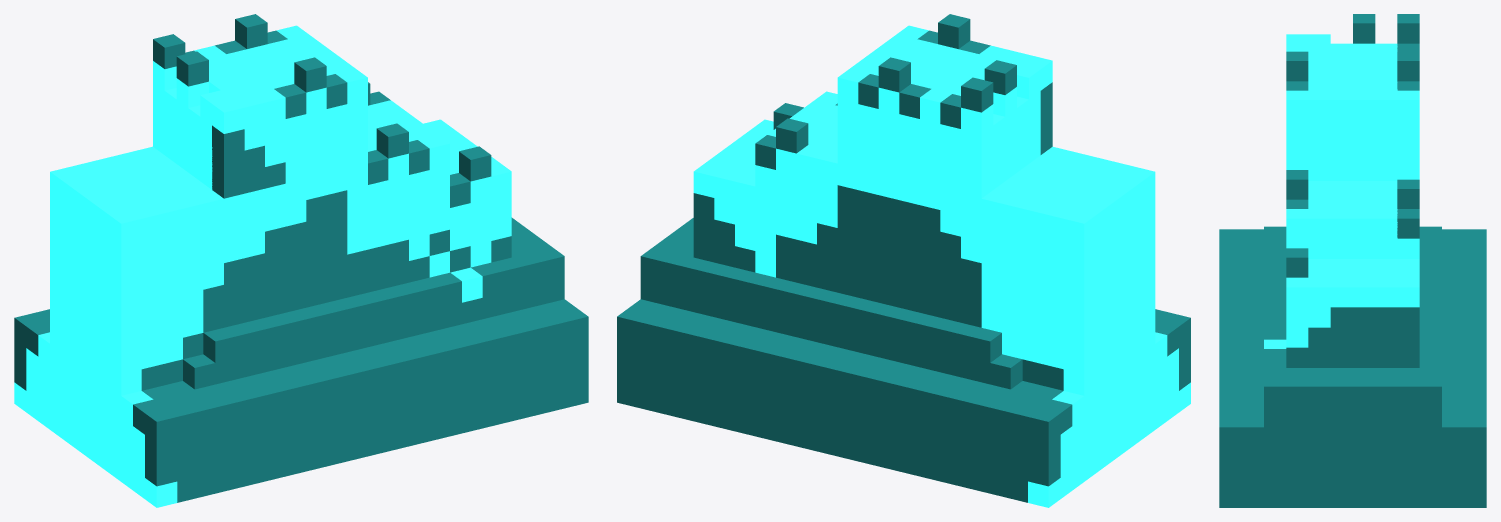
File: rat-body-joined.fbx
The picture shows the model from 3 angles, left to right: view 1: azimuth 30°, elevation 25°; view 2: azimuth 150°, elevation 25°; view 3: azimuth 270°, elevation 25°; orthographic projection. The views are drawn at different scales.
Visible parts, largest first — view 1: body; view 2: body; view 3: body.
Boxes of the visible parts, x1,y1,x2,y2 form: body: (14, 14, 588, 507); body: (617, 14, 1190, 507); body: (1219, 14, 1486, 507).
Size of the model in its own units: 143 by 116 by 81.52.
